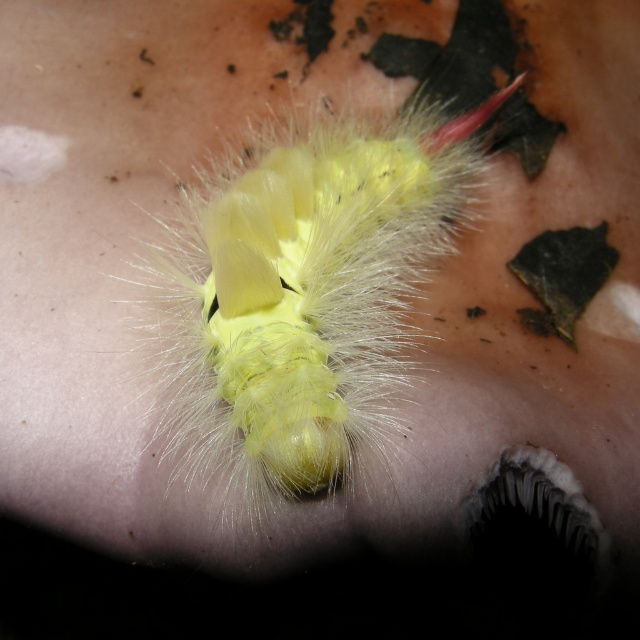Caterpillar: (99, 27, 525, 535)
